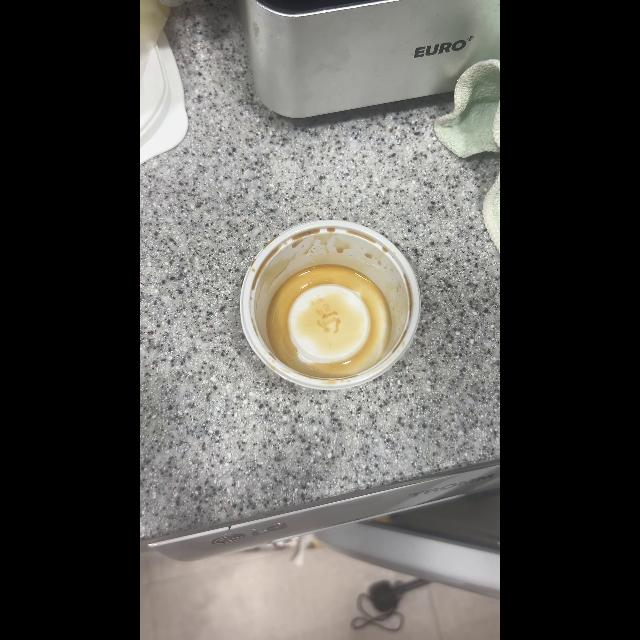dirty: (251, 234, 407, 380)
